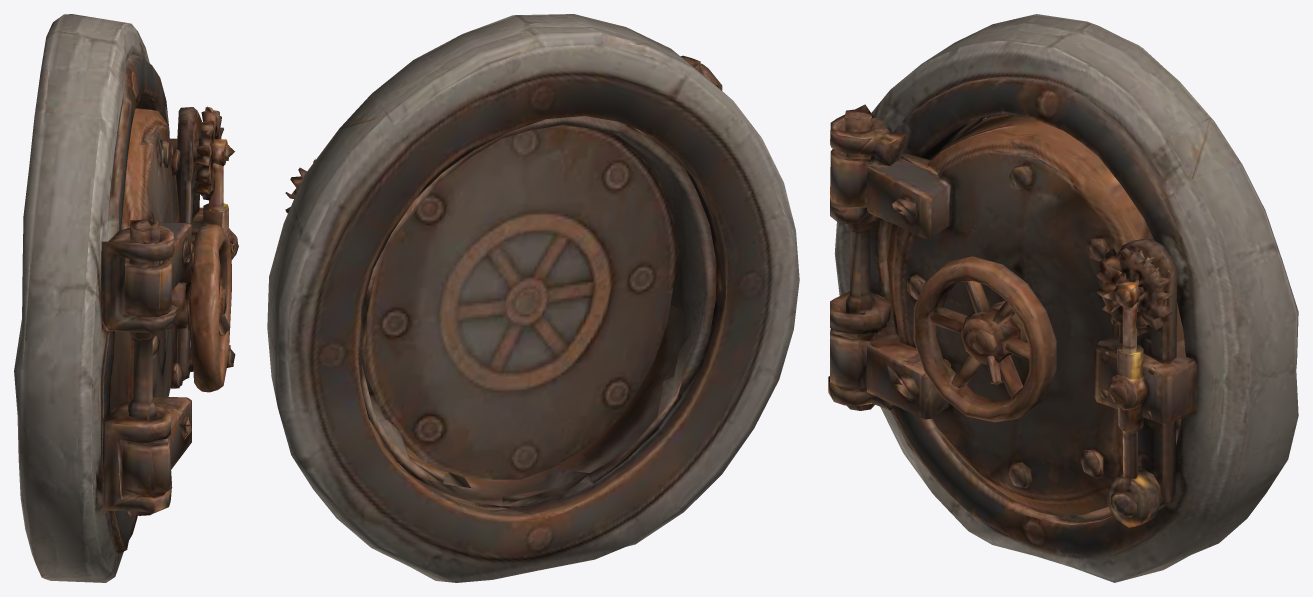
Rendered from bunker_vault_door.glb.
3 renders of one model, left to right at view 1: azimuth 30°, elevation 25°; view 2: azimuth 150°, elevation 25°; view 3: azimuth 270°, elevation 25°, orthographic. The views are drawn at different scales.
Bounding box in the file's own units: 0.2476 × 0.3472 × 0.2856.
Materials: 1 (1 with a texture image).
